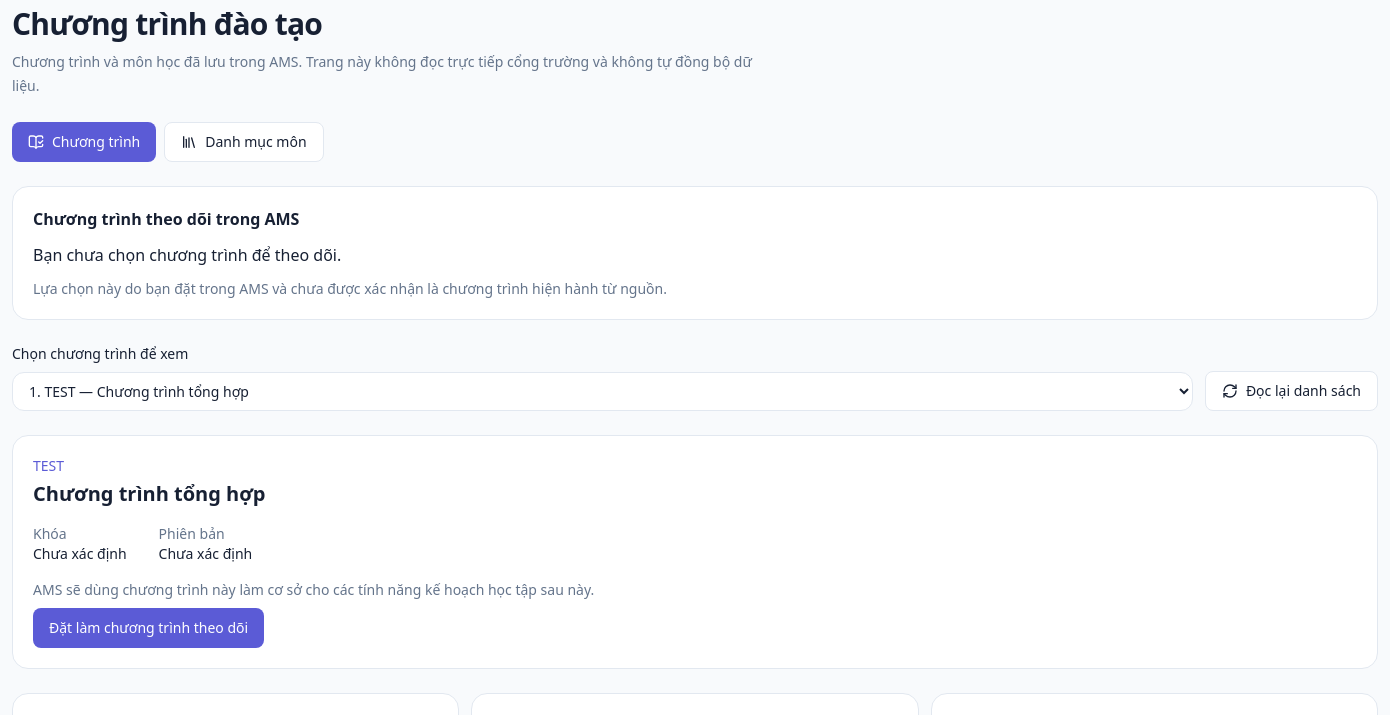
Test: Persisted curriculum browser › keeps tracked A visible while viewing B, then switches tracking to B
Click the button "Đặt làm chương trình theo dõi": (149, 628) [33, 608, 264, 648]
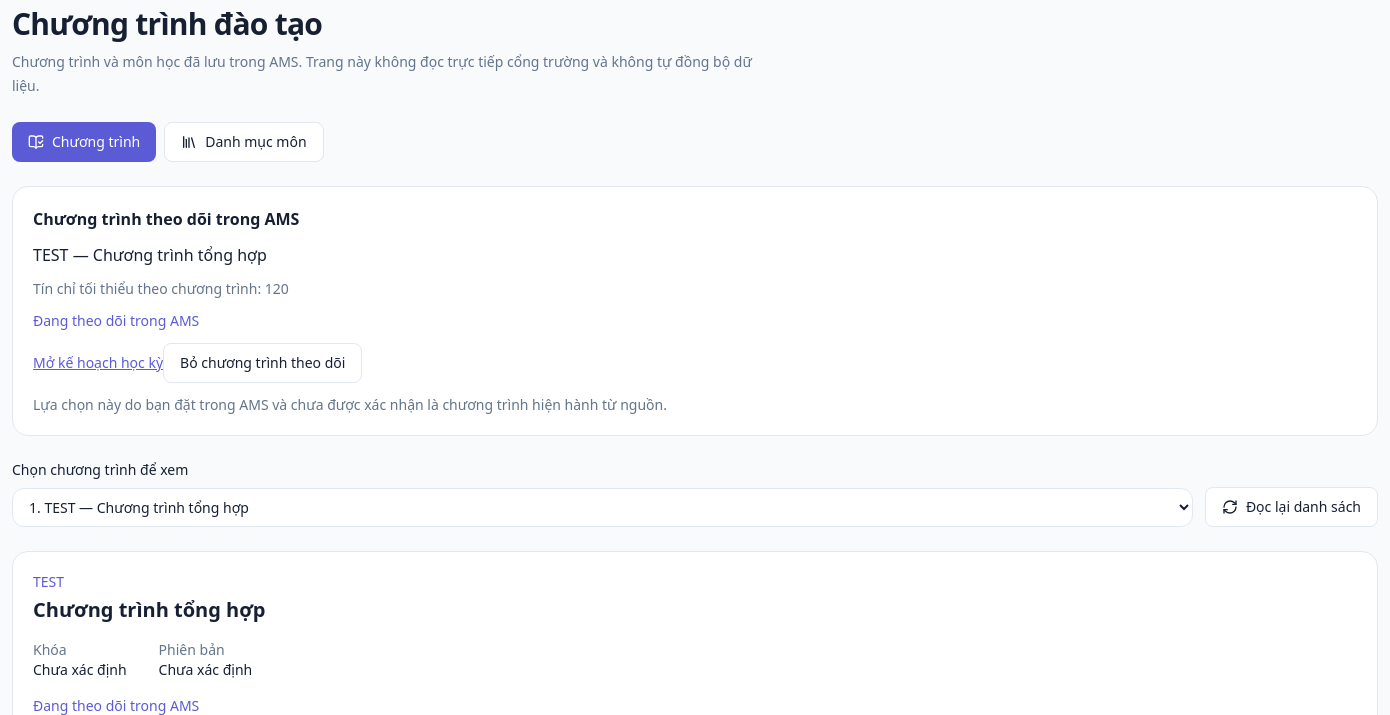
Select "2. CURR-B — Chương trình kiểm thử B" in the dropdown labelled "Chọn chương trình để xem": (602, 508) [12, 488, 1193, 527]
(page scrolled)
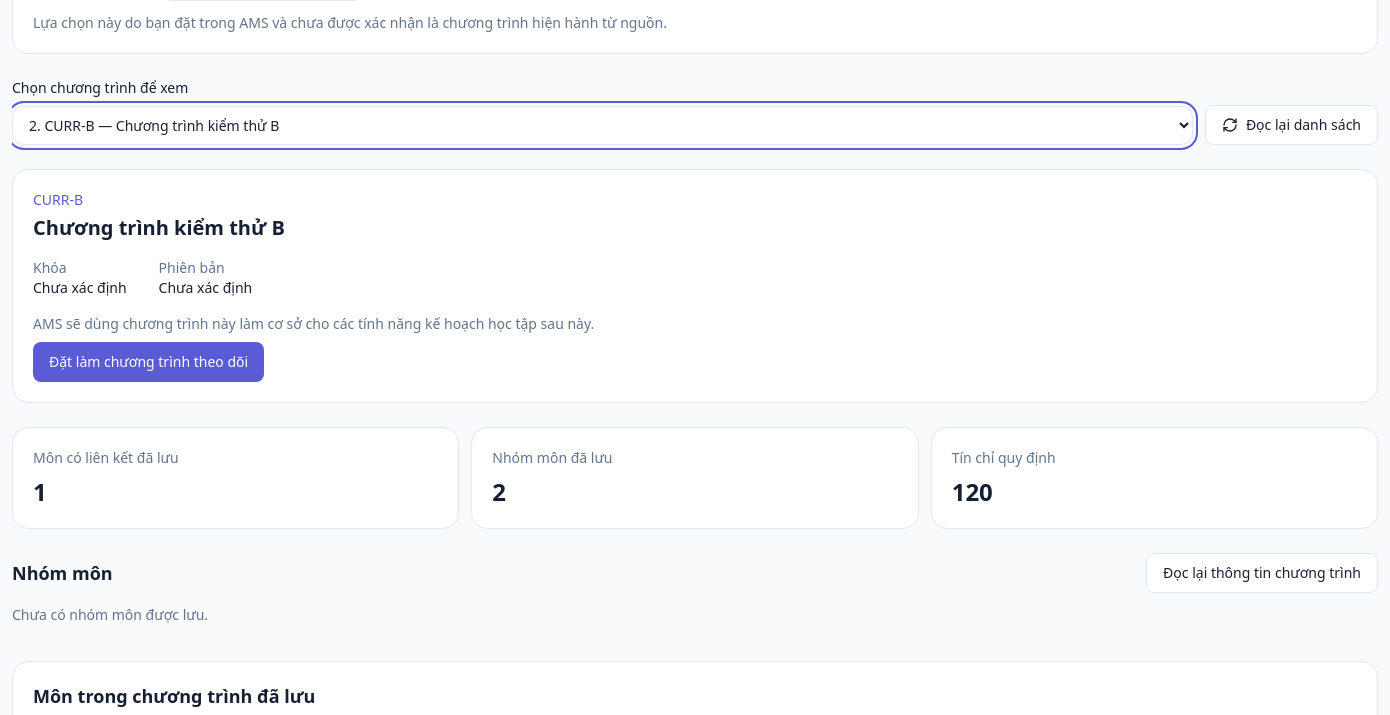
Now the heading "Chương trình kiểm thử B" is shown, box [33, 214, 285, 241]
Click the button "Đặt làm chương trình theo dõi": (149, 362) [33, 342, 264, 382]
(page scrolled)
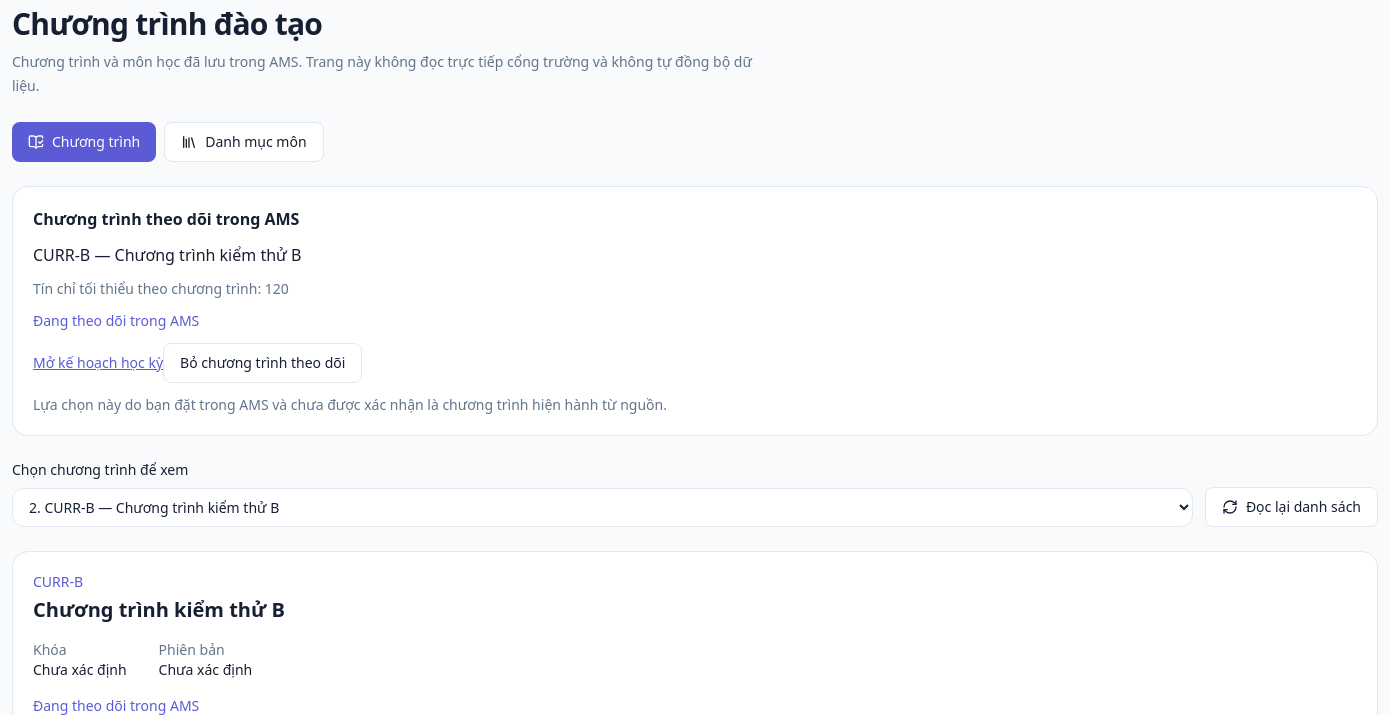
Now the text "CURR-B — Chương trình kiểm thử B" is shown, box [33, 244, 301, 266]
